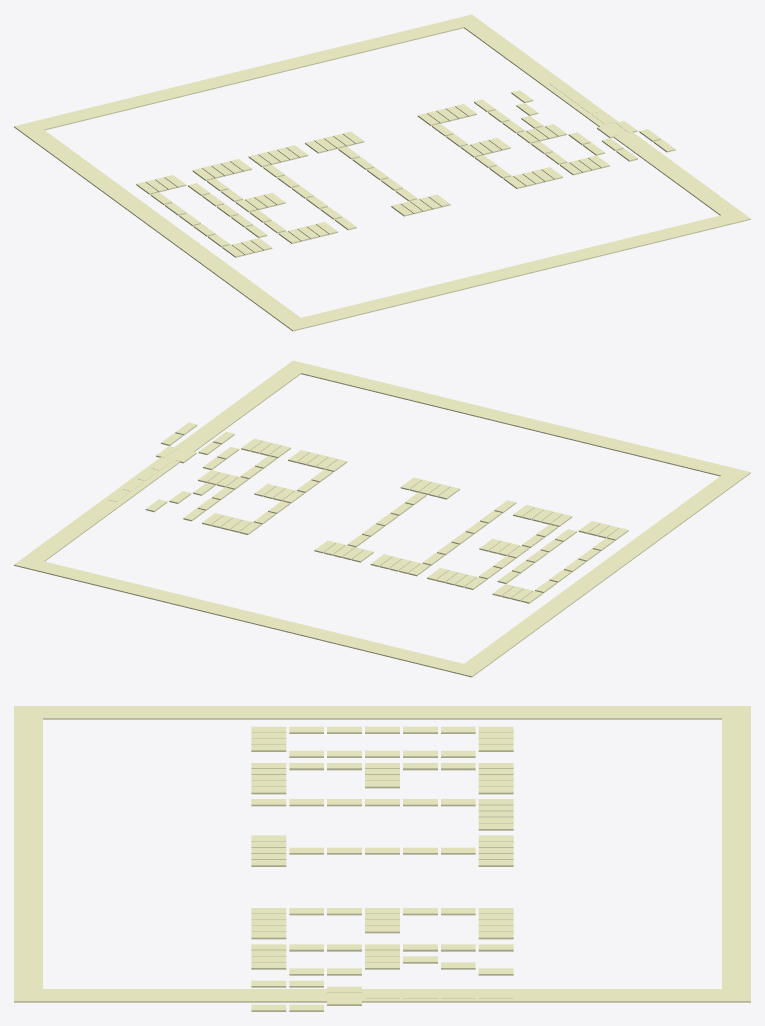
Rendered from marking_delivery_box_white.glb.
3 views of the same model, one above another, from view 1: azimuth 30°, elevation 25°; view 2: azimuth 150°, elevation 25°; view 3: azimuth 270°, elevation 25° (orthographic). The views are drawn at different scales.
Visible parts, largest first — view 1: delivery_box_bottom, delivery_box_top, delivery_box_left, delivery_box_right; view 2: delivery_box_top, delivery_box_bottom, delivery_box_left, delivery_box_right; view 3: delivery_box_left, delivery_box_top, delivery_box_bottom, delivery_box_right.
Part boxes in pixels (x1,y1,x2,y2): delivery_box_bottom: [282, 211, 750, 331]; delivery_box_top: [14, 14, 482, 134]; delivery_box_left: [25, 129, 300, 322]; delivery_box_right: [464, 22, 739, 215]; delivery_box_top: [14, 557, 482, 677]; delivery_box_bottom: [282, 360, 750, 480]; delivery_box_left: [464, 475, 739, 668]; delivery_box_right: [25, 368, 300, 561]; delivery_box_left: [43, 706, 721, 719]; delivery_box_top: [722, 706, 750, 1002]; delivery_box_bottom: [14, 706, 42, 1002]; delivery_box_right: [43, 989, 721, 1002].
Bounding box in the file's own units: 2.25 × 0.006 × 2.3.
